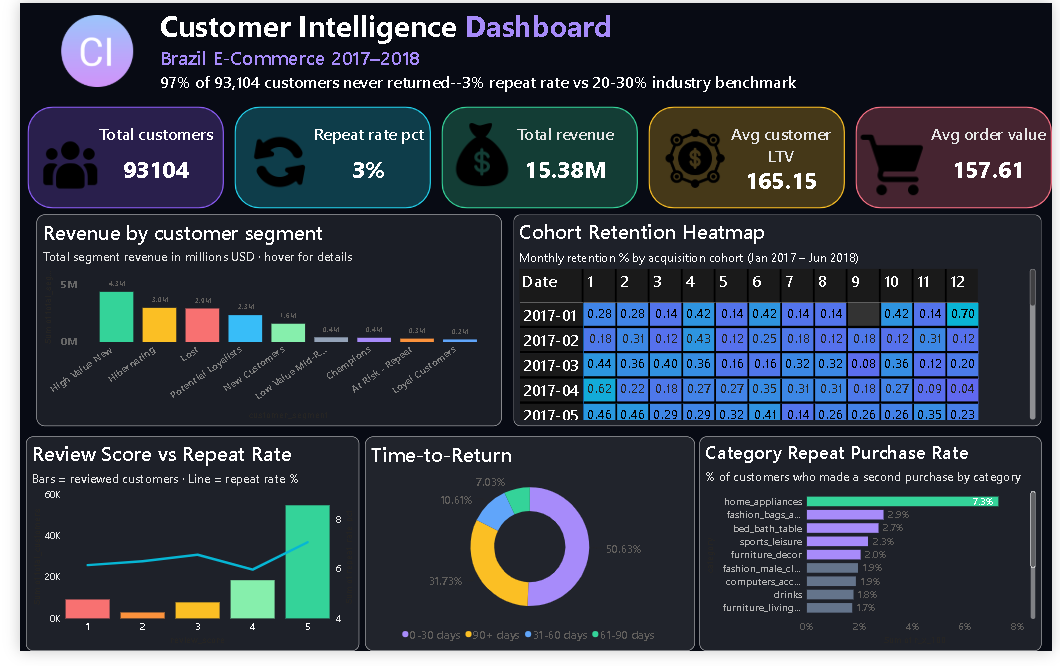

This screenshot's page, from the dashboard's own definition file:
{"tool":"powerbi","page":{"name":"Page 1","canvas":[1720,1080],"ordinal":0},"visuals":[{"type":"textbox","box":[227.5,0,1085,172.5],"z":0},{"type":"shape","box":[12.5,172.5,327.5,170],"z":1000},{"type":"kpi","title":"Total customers","fields":{"Indicator":["Sum(kpi_summary.total_customers)"],"TrendLine":["kpi_summary.dumyaxis"]},"box":[112.5,200,227.5,115],"z":2000},{"type":"shape","box":[357.5,172.5,327.5,170],"z":3000},{"type":"shape","box":[702.5,172.5,327.5,170],"z":4000},{"type":"shape","box":[1047.5,172.5,327.5,170],"z":5000},{"type":"shape","box":[1392.5,172.5,327.5,170],"z":6000},{"type":"kpi","title":"Avg order value","fields":{"TrendLine":["kpi_summary.dumyaxis"],"Indicator":["Sum(kpi_summary.avg_order_value)"]},"box":[1507.5,200,212.5,115],"z":7000},{"type":"kpi","title":"Avg customer LTV","fields":{"TrendLine":["kpi_summary.dumyaxis"],"Indicator":["Sum(kpi_summary.avg_customer_ltv)"]},"box":[1162.5,200,212.5,115],"z":8000},{"type":"kpi","title":"Total revenue","fields":{"TrendLine":["kpi_summary.dumyaxis"],"Indicator":["Sum(kpi_summary.total_revenue)"]},"box":[802.5,200,212.5,115],"z":9000},{"type":"kpi","title":"Repeat rate pct","fields":{"TrendLine":["kpi_summary.dumyaxis"],"Indicator":["Sum(kpi_summary.Division)"]},"box":[475,200,212.5,115],"z":10000},{"type":"clusteredColumnChart","title":"Revenue by customer segment","fields":{"Category":["rfm_summary.customer_segment"],"Y":["Sum(rfm_summary.total_segment_revenue)"]},"box":[27.5,352.5,775,352.5],"z":11000},{"type":"lineClusteredColumnComboChart","title":"Review Score vs Repeat Rate","fields":{"Y2":["Sum(review_repeat.repeat_rate_pct)"],"Y":["Sum(review_repeat.total_customers)"],"Category":["review_repeat.review_score"]},"box":[10,722.5,555,357.5],"z":12000},{"type":"donutChart","title":"Time-to-Return","fields":{"Category":["time_to_return.return_window"],"Y":["Sum(time_to_return.pct_of_repeat_customers)"]},"box":[575,722.5,550,357.5],"z":13000},{"type":"clusteredBarChart","title":"Category Repeat Purchase Rate","fields":{"Category":["category_repeat.category"],"Y":["Sum(category_repeat.r_x_100)"]},"box":[1132.5,722.5,570,357.5],"z":14000},{"type":"pivotTable","title":"Cohort Retention Heatmap","fields":{"Values":["Sum(cohort_data_v2.retention_rate_pct)"],"Columns":["cohort_data_v2.month_number"],"Rows":["cohort_data_v2.d_cohort"]},"box":[822.5,352.5,880,352.5],"z":15000},{"type":"image","box":[27.5,225,112.5,90],"z":15001},{"type":"image","box":[360,215,145,100],"z":15002},{"type":"image","box":[702.5,200,135,105],"z":15003},{"type":"image","box":[987.5,202.5,275,112.5],"z":15004},{"type":"image","box":[1375,215,157.5,105],"z":15005},{"type":"image","box":[0,20,257.5,120],"z":15006}]}

Visuals, with their boxes in screenshot pixels (x1, y1, x2, y2), scaled from the page's 1720x1080 canvas onto the 1060x666 screenshot:
textbox: [140, 0, 809, 106]
shape: [8, 106, 210, 211]
"Total customers" kpi: [69, 123, 210, 194]
shape: [220, 106, 422, 211]
shape: [433, 106, 635, 211]
shape: [646, 106, 847, 211]
shape: [858, 106, 1059, 211]
"Avg order value" kpi: [929, 123, 1059, 194]
"Avg customer LTV" kpi: [716, 123, 847, 194]
"Total revenue" kpi: [495, 123, 626, 194]
"Repeat rate pct" kpi: [293, 123, 424, 194]
"Revenue by customer segment" clusteredColumnChart: [17, 217, 495, 435]
"Review Score vs Repeat Rate" lineClusteredColumnComboChart: [6, 446, 348, 665]
"Time-to-Return" donutChart: [354, 446, 693, 665]
"Category Repeat Purchase Rate" clusteredBarChart: [698, 446, 1049, 665]
"Cohort Retention Heatmap" pivotTable: [507, 217, 1049, 435]
image: [17, 139, 86, 194]
image: [222, 133, 311, 194]
image: [433, 123, 516, 188]
image: [609, 125, 778, 194]
image: [847, 133, 944, 197]
image: [0, 12, 159, 86]
